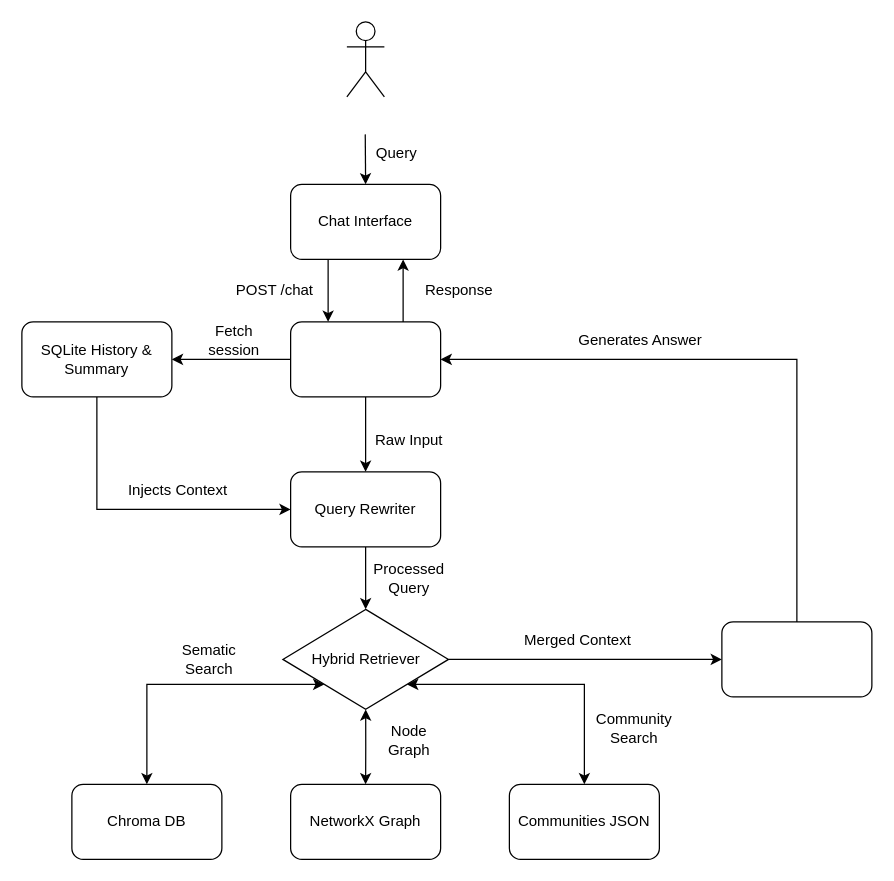
Image size: 894x881. Some labels were removed from this diagram. Each missing label, with the box of its shape:
Prompt Builder LLM: (721, 621, 872, 697)
Server: (289, 321, 441, 397)
User: (346, 21, 384, 97)
